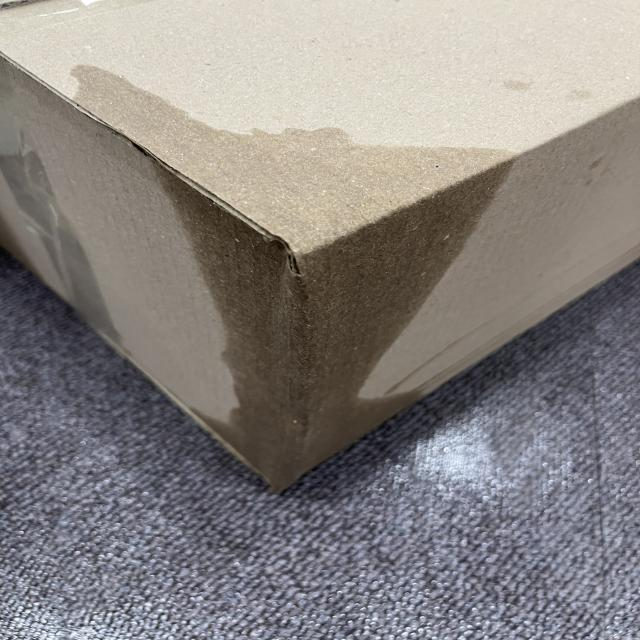wet: (70, 66, 524, 508)
